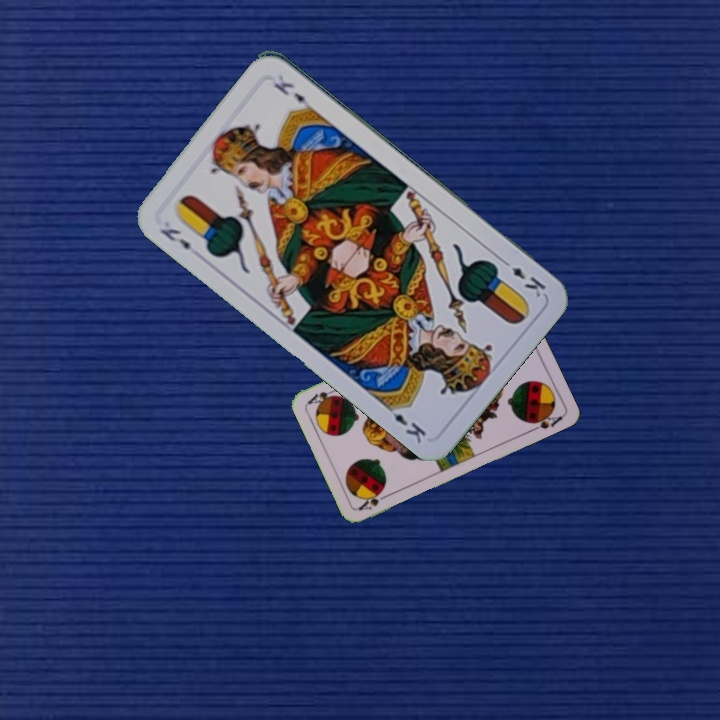EK: (496, 254, 549, 300), (155, 224, 202, 260)
SA: (354, 488, 393, 513)
